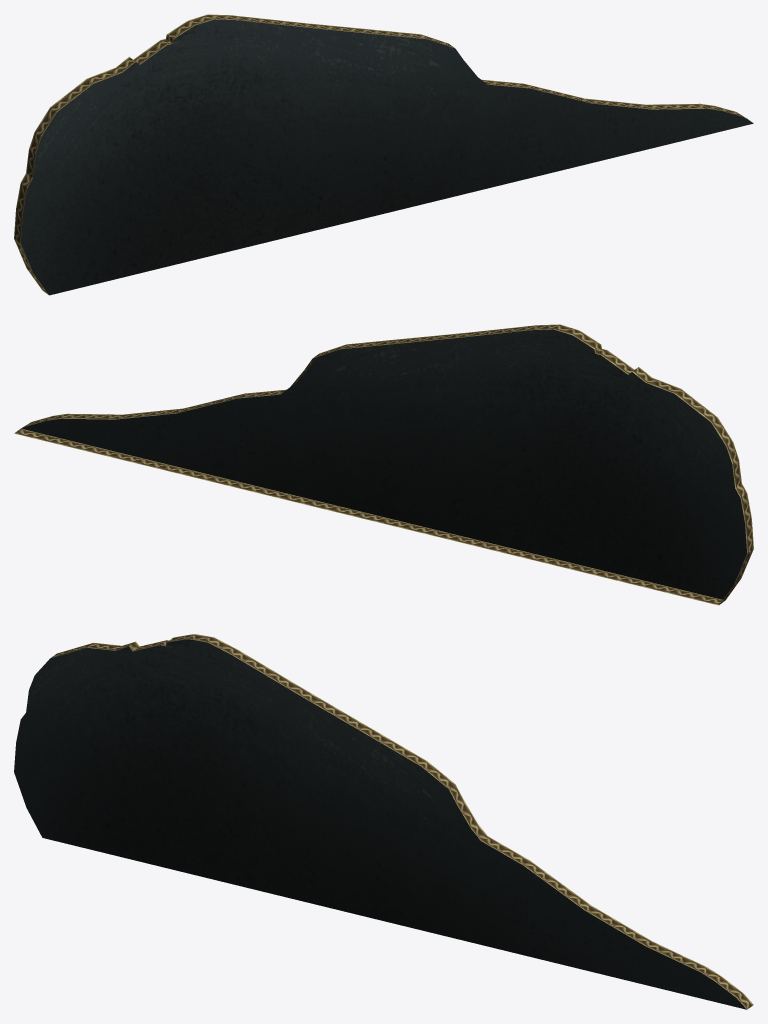
Rendered from ground4.fbx.
The picture shows the model from 3 angles, top to bottom: view 1: azimuth 30°, elevation 25°; view 2: azimuth 150°, elevation 25°; view 3: azimuth 330°, elevation 25°; orthographic projection.
Parts seen in each view (by area): view 1: ground04; view 2: ground04; view 3: ground04.
Part boxes in pixels (x1,y1,x2,y2): ground04: (14,14,753,295); ground04: (14,324,753,605); ground04: (14,634,753,1009).
Size of the model in its own units: 9.32 by 2.86 by 0.15.
